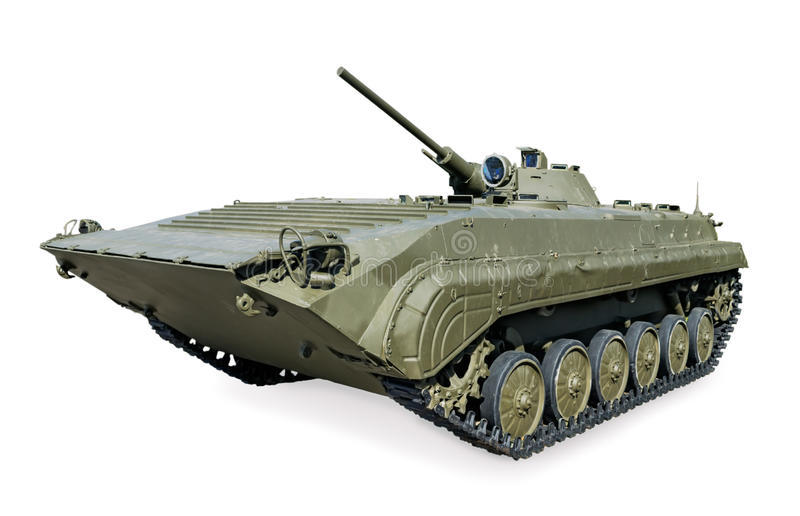bmp: (45, 79, 745, 453)
